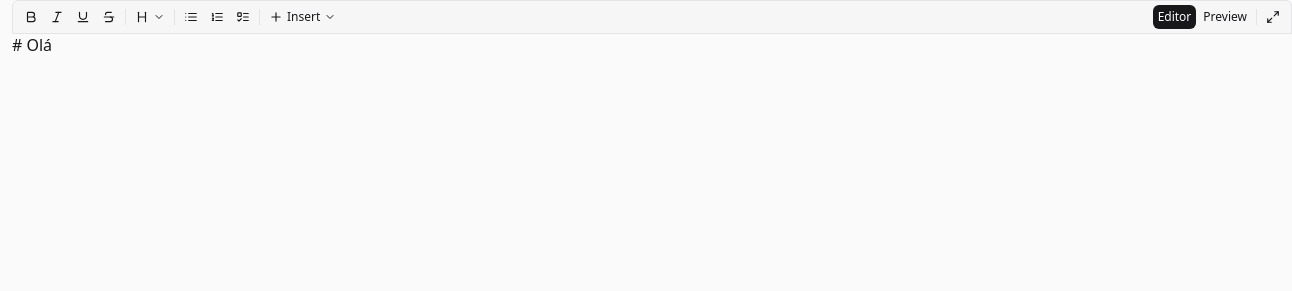
it: MarkdownEditor › alterna para o preview e esconde a toolbar de edição
Click the button "Preview": (1225, 17) 1198,5 -> 1252,29
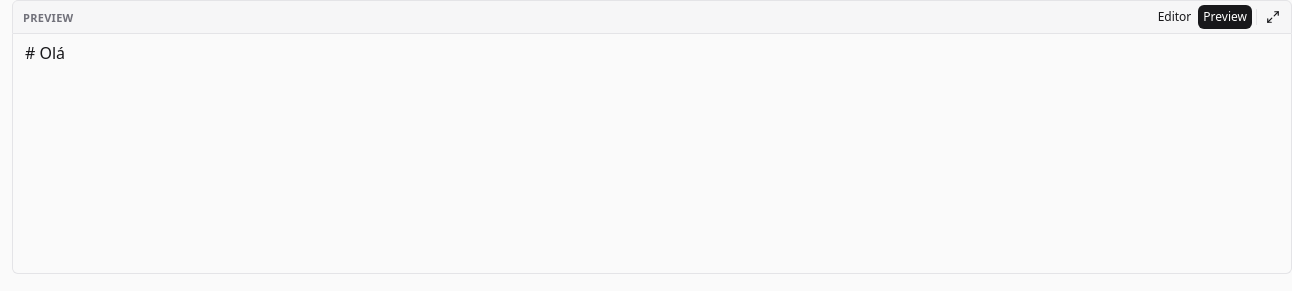
Check: the text with class "md-editor-preview" reads "# Olá", box 25,42 -> 65,64
Check: the text with class "md-editor-stub" is gone
